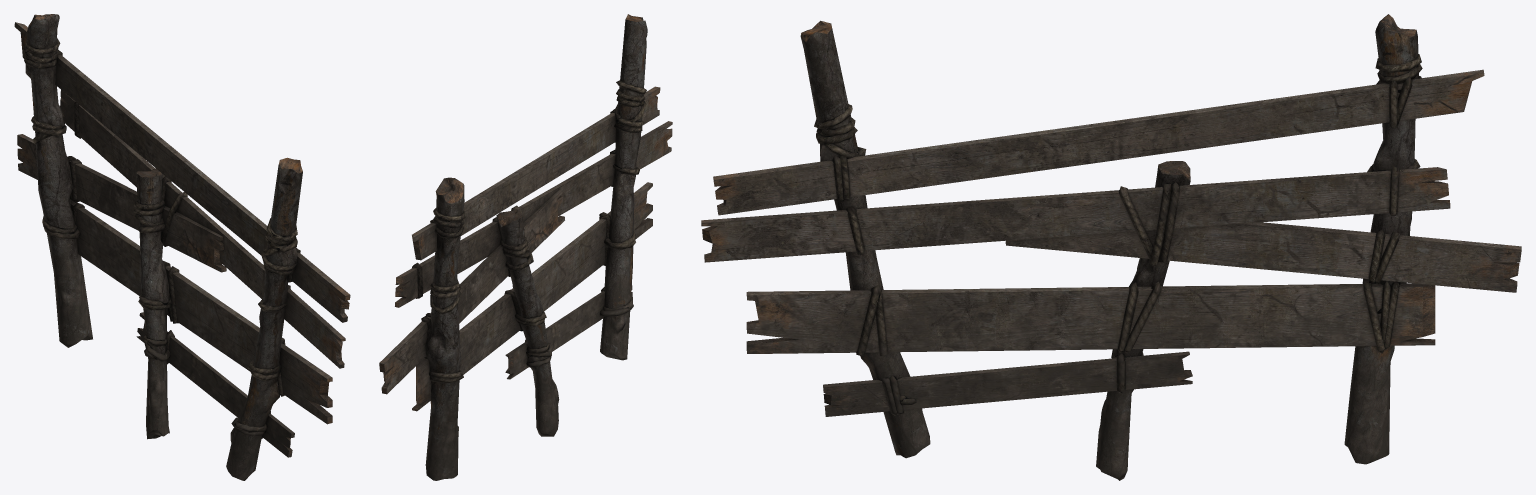
File: SM_WoodBoards_2x3_02.glb
3 renders of one model, left to right at view 1: azimuth 30°, elevation 25°; view 2: azimuth 150°, elevation 25°; view 3: azimuth 270°, elevation 25°, orthographic. The views are drawn at different scales.
Parts seen in each view (by area): view 1: SM_WoodBoards_2x3_02; view 2: SM_WoodBoards_2x3_02; view 3: SM_WoodBoards_2x3_02.
Part boxes in pixels (bbox=[...]): SM_WoodBoards_2x3_02: bbox=[14, 14, 350, 480]; SM_WoodBoards_2x3_02: bbox=[379, 14, 672, 480]; SM_WoodBoards_2x3_02: bbox=[701, 14, 1521, 480].
Bounding box in the file's own units: 0.3301 × 1.87 × 3.
Materials: 1 (1 with a texture image).
